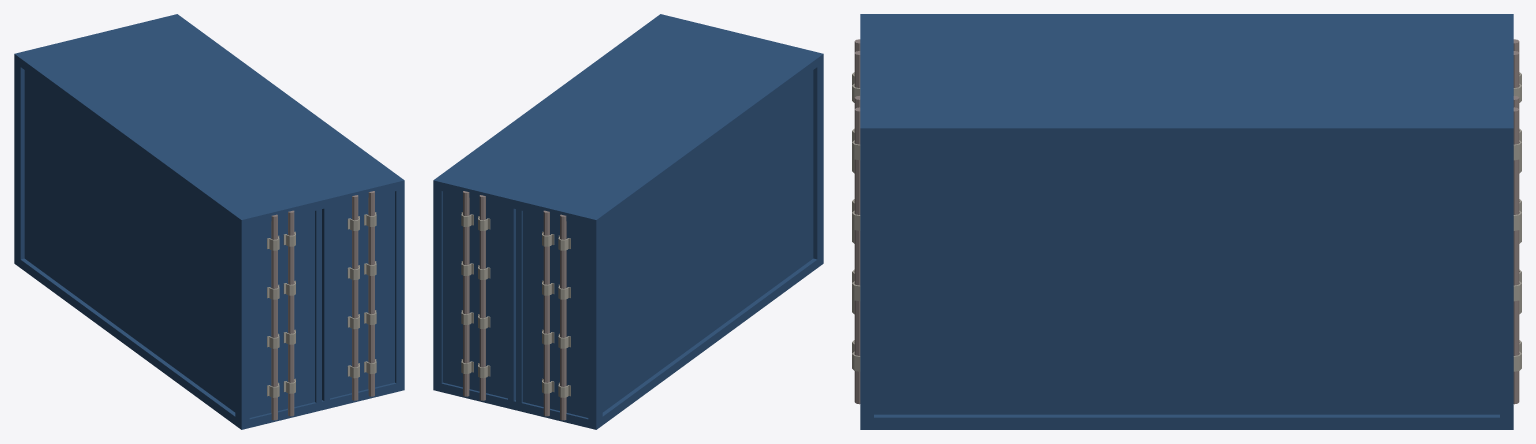
Rendered from container_03.fbx.
The picture shows the model from 3 angles, left to right: view 1: azimuth 30°, elevation 25°; view 2: azimuth 150°, elevation 25°; view 3: azimuth 270°, elevation 25°; orthographic projection. The views are drawn at different scales.
Parts seen in each view (by area): view 1: container03; view 2: container03; view 3: container03.
Part boxes in pixels (x1,y1,x2,y2): container03: (14, 14, 404, 429); container03: (433, 14, 823, 429); container03: (852, 14, 1521, 429).
Bounding box in the file's own units: 138 × 342 × 170.
